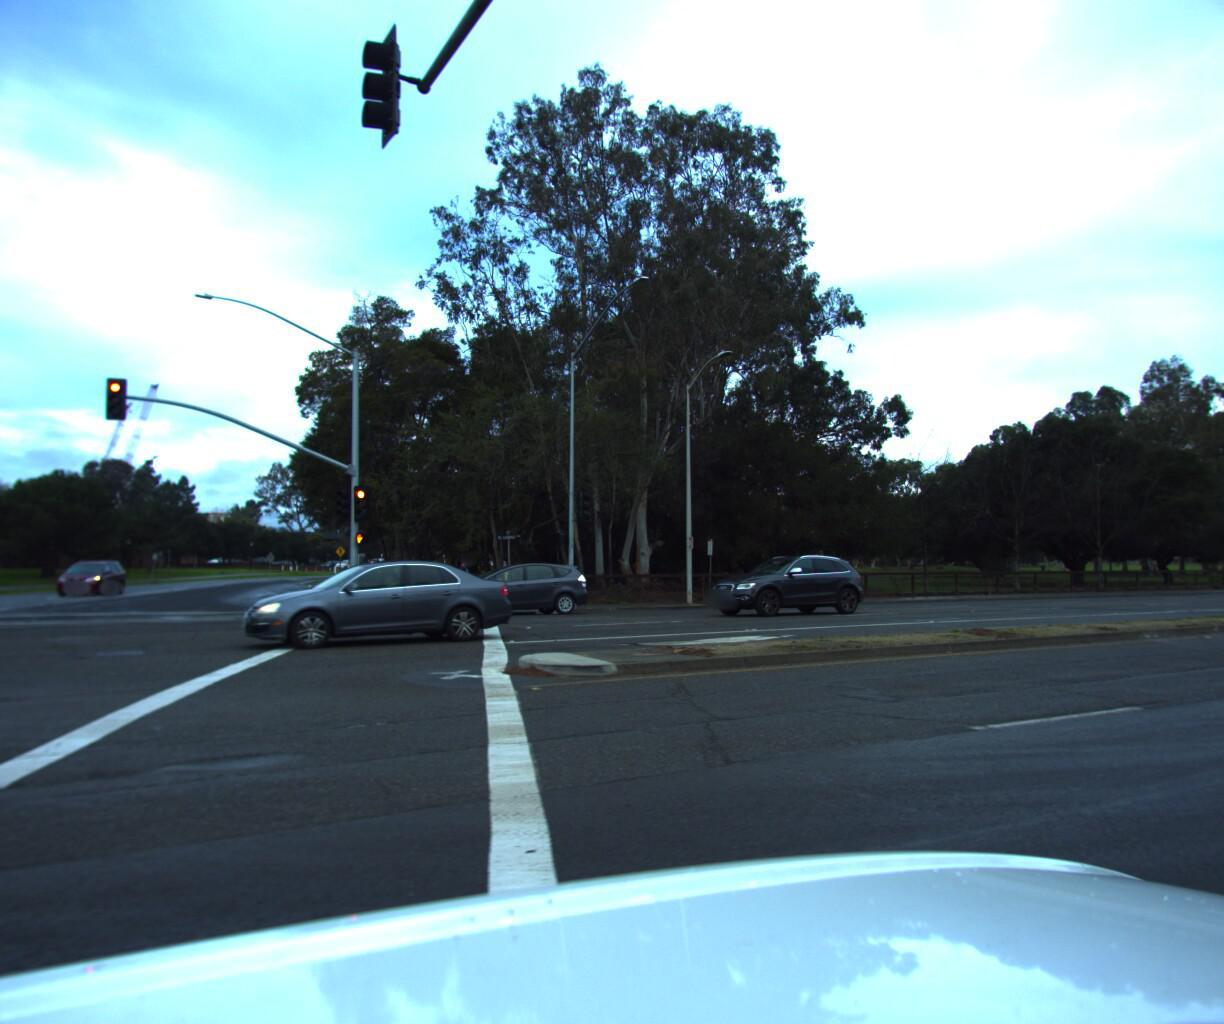car: (223, 550, 525, 651), (696, 544, 877, 614), (432, 555, 594, 612), (46, 554, 133, 595)
